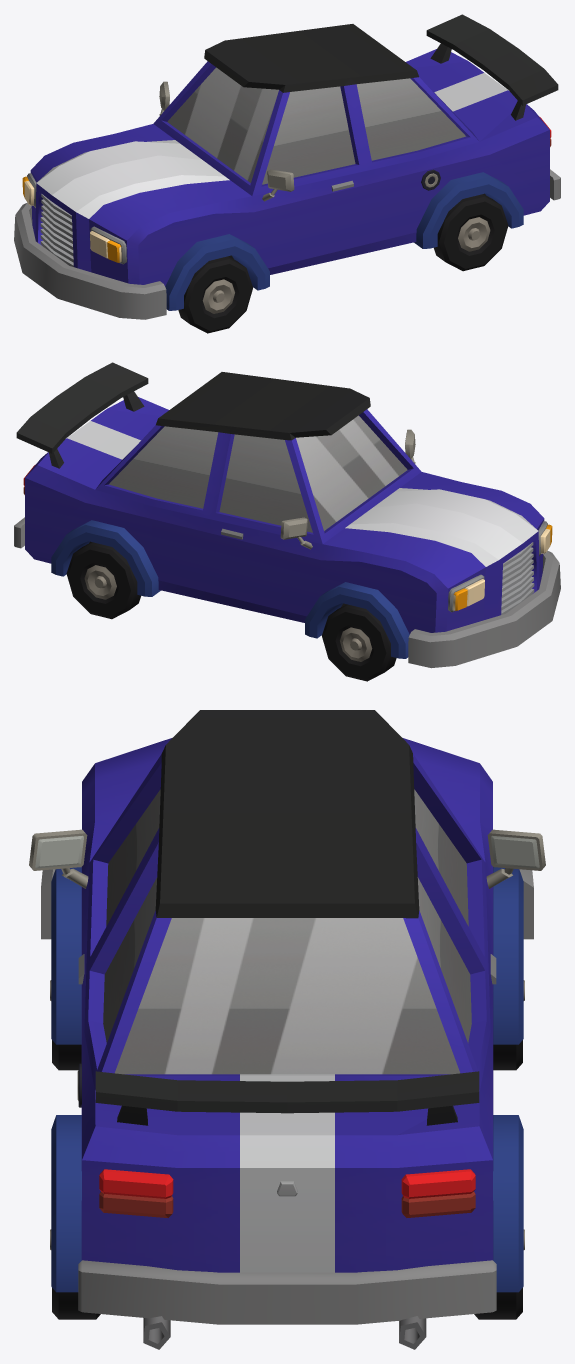
The model's file is Car_1_D.gltf.
3 views of the same model, one above another, from view 1: azimuth 30°, elevation 25°; view 2: azimuth 150°, elevation 25°; view 3: azimuth 270°, elevation 25° (orthographic). The views are drawn at different scales.
Parts seen in each view (by area): view 1: Car_1_D, RL, FL; view 2: Car_1_D, RR, FR; view 3: Car_1_D, RL, RR, FR, FL.
Part boxes in pixels (x1=…): Car_1_D: x1=14, y1=14, x2=560, y2=319; RL: x1=434, y1=194, x2=508, y2=271; FL: x1=178, y1=256, x2=252, y2=333; Car_1_D: x1=14, y1=362, x2=560, y2=668; RR: x1=66, y1=542, x2=140, y2=619; FR: x1=322, y1=604, x2=396, y2=681; Car_1_D: x1=29, y1=710, x2=545, y2=1349; RL: x1=50, y1=1229, x2=100, y2=1319; RR: x1=474, y1=1229, x2=524, y2=1319; FR: x1=493, y1=980, x2=524, y2=1070; FL: x1=50, y1=980, x2=81, y2=1070.
Size of the model in its own units: 3.64 by 1.5 by 1.7.
Materials: 4 (4 with a texture image).
